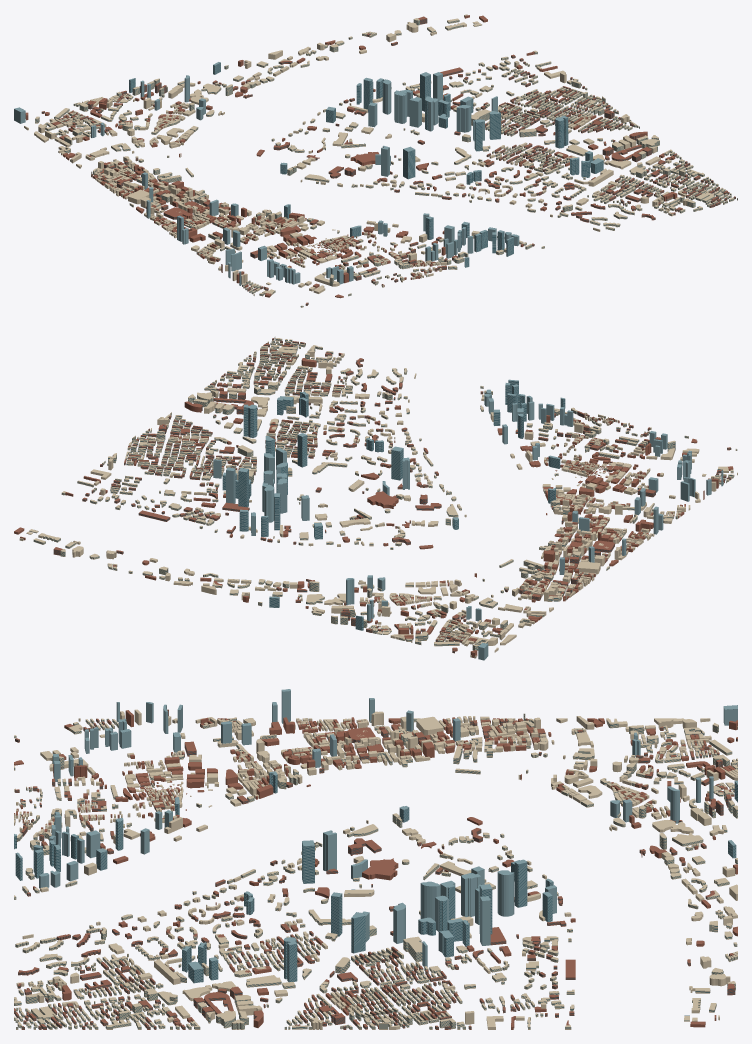
The model's file is surrounding-buildings.glb.
3 views of the same model, one above another, from view 1: azimuth 30°, elevation 25°; view 2: azimuth 150°, elevation 25°; view 3: azimuth 270°, elevation 25° (orthographic). The views are drawn at different scales.
Parts seen in each view (by area): view 1: no part large enough to name; view 2: no part large enough to name; view 3: osm-way-164971463, osm-way-526005642, osm-relation-12981309, osm-relation-12981303.001, osm-way-525709287, osm-way-375966620.
Boxes of the visible parts, left/top/right/bottom form: osm-way-164971463: left=514, top=859, right=527, bottom=907; osm-way-526005642: left=362, top=858, right=398, bottom=880; osm-relation-12981309: left=501, top=871, right=514, bottom=916; osm-relation-12981303.001: left=420, top=882, right=440, bottom=920; osm-way-525709287: left=351, top=912, right=365, bottom=953; osm-way-375966620: left=302, top=840, right=314, bottom=883.
Bounding box in the file's own units: 3500 × 256 × 3470.
